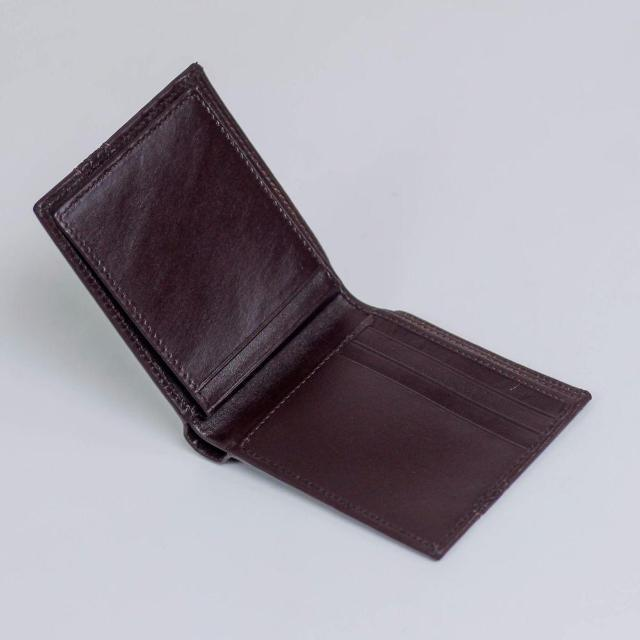wallet: (36, 61, 592, 558)
